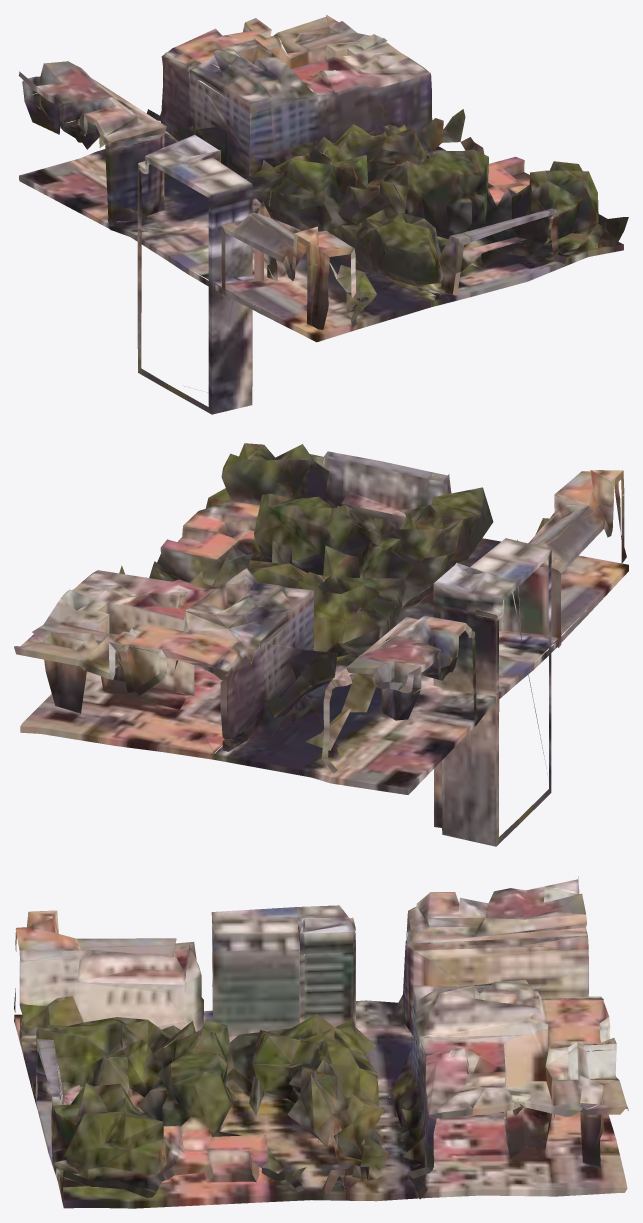
3 views of the same model, one above another, from view 1: azimuth 30°, elevation 25°; view 2: azimuth 150°, elevation 25°; view 3: azimuth 270°, elevation 25° (orthographic). The views are drawn at different scales.
Visible parts, largest first — view 1: Mesh_0; view 2: Mesh_0; view 3: Mesh_0.
Part boxes in pixels (<box>): Mesh_0: <box>18,15,628,414</box>; Mesh_0: <box>14,443,628,846</box>; Mesh_0: <box>14,876,628,1208</box>.
Size of the model in its own units: 137 by 79.3 by 165.
1 material, 1 textured.
